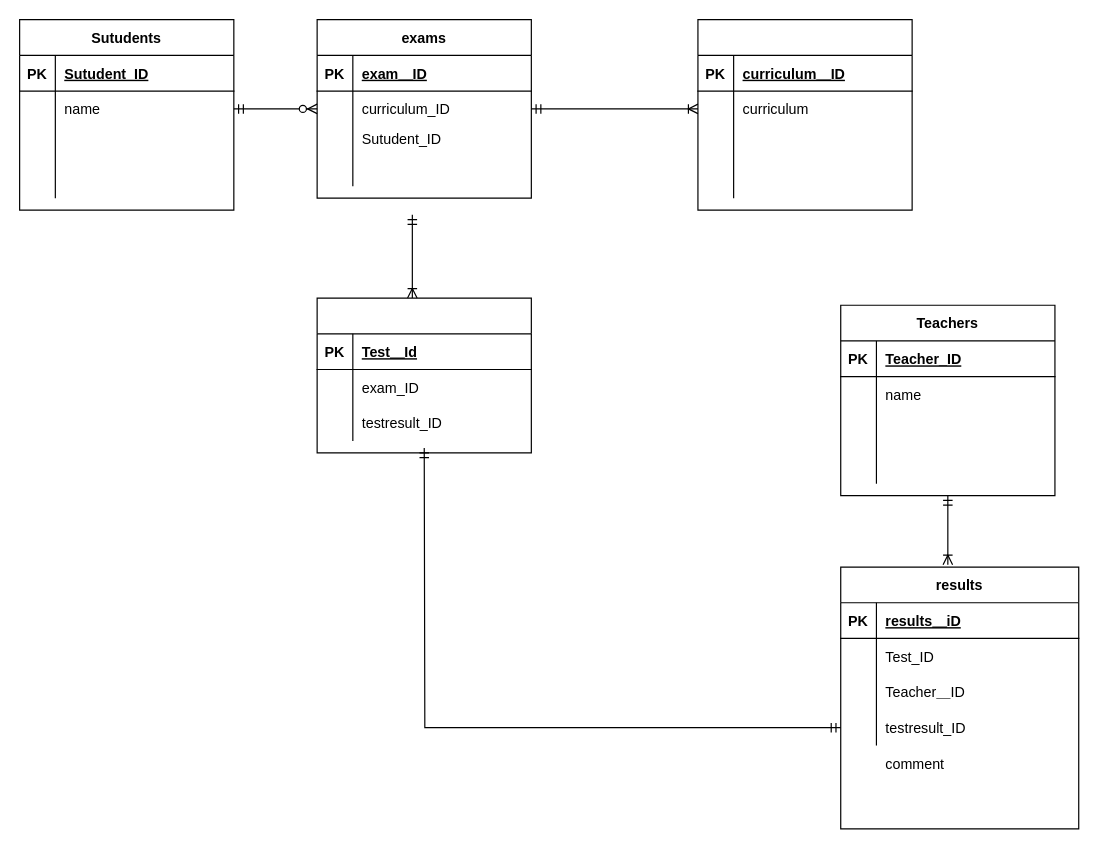
Some shapes in this 1098 by 848 pixel diagram are drawn without their labels. The shapes that lost their labels are listed below. From the top down, each one's box as (x1, y1, x2, y2) in pixels, then its label:
(697, 18, 912, 210): curriculums
(316, 297, 531, 453): Tests
